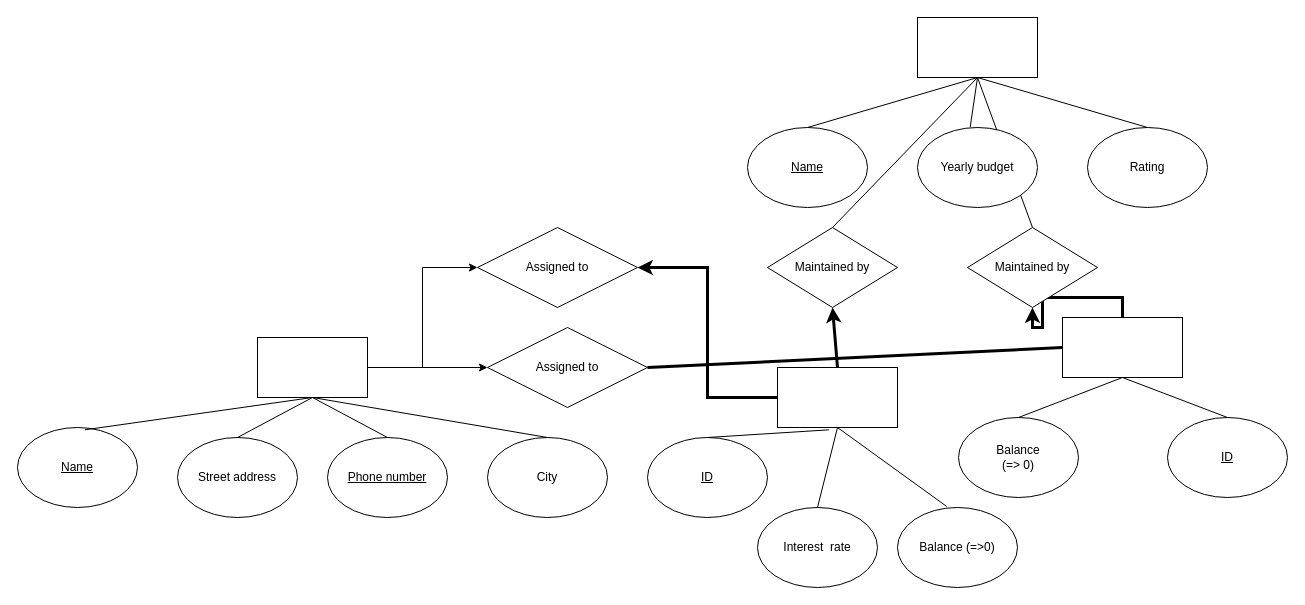
The diagram is 1305 pixels wide and 605 high, and some of its shapes have lost their labels. The shapes that lost their labels are listed below. From the top down, each one's centre as x and y in pixels, then its label:
At point (977, 47): "Branch".
At point (312, 367): "Customer".
At point (1122, 347): "Account".
At point (837, 397): "Loan".
